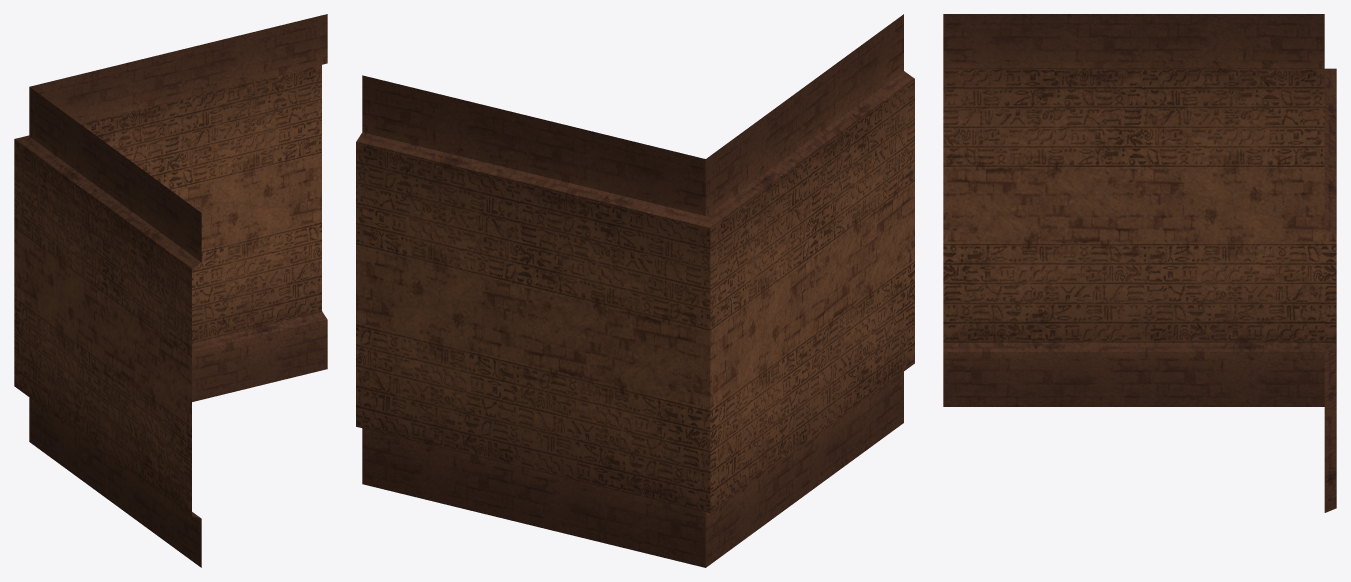
Rendered from Wall_Corner_1x1.FBX.
The picture shows the model from 3 angles, left to right: view 1: azimuth 30°, elevation 25°; view 2: azimuth 150°, elevation 25°; view 3: azimuth 270°, elevation 25°; orthographic projection. The views are drawn at different scales.
Parts seen in each view (by area): view 1: Wall_Corner_1x1; view 2: Wall_Corner_1x1; view 3: Wall_Corner_1x1.
Part boxes in pixels (x1=…): Wall_Corner_1x1: x1=14, y1=14, x2=327, y2=567; Wall_Corner_1x1: x1=356, y1=14, x2=914, y2=567; Wall_Corner_1x1: x1=943, y1=14, x2=1336, y2=512.
Bounding box in the file's own units: 120 × 132 × 120.
